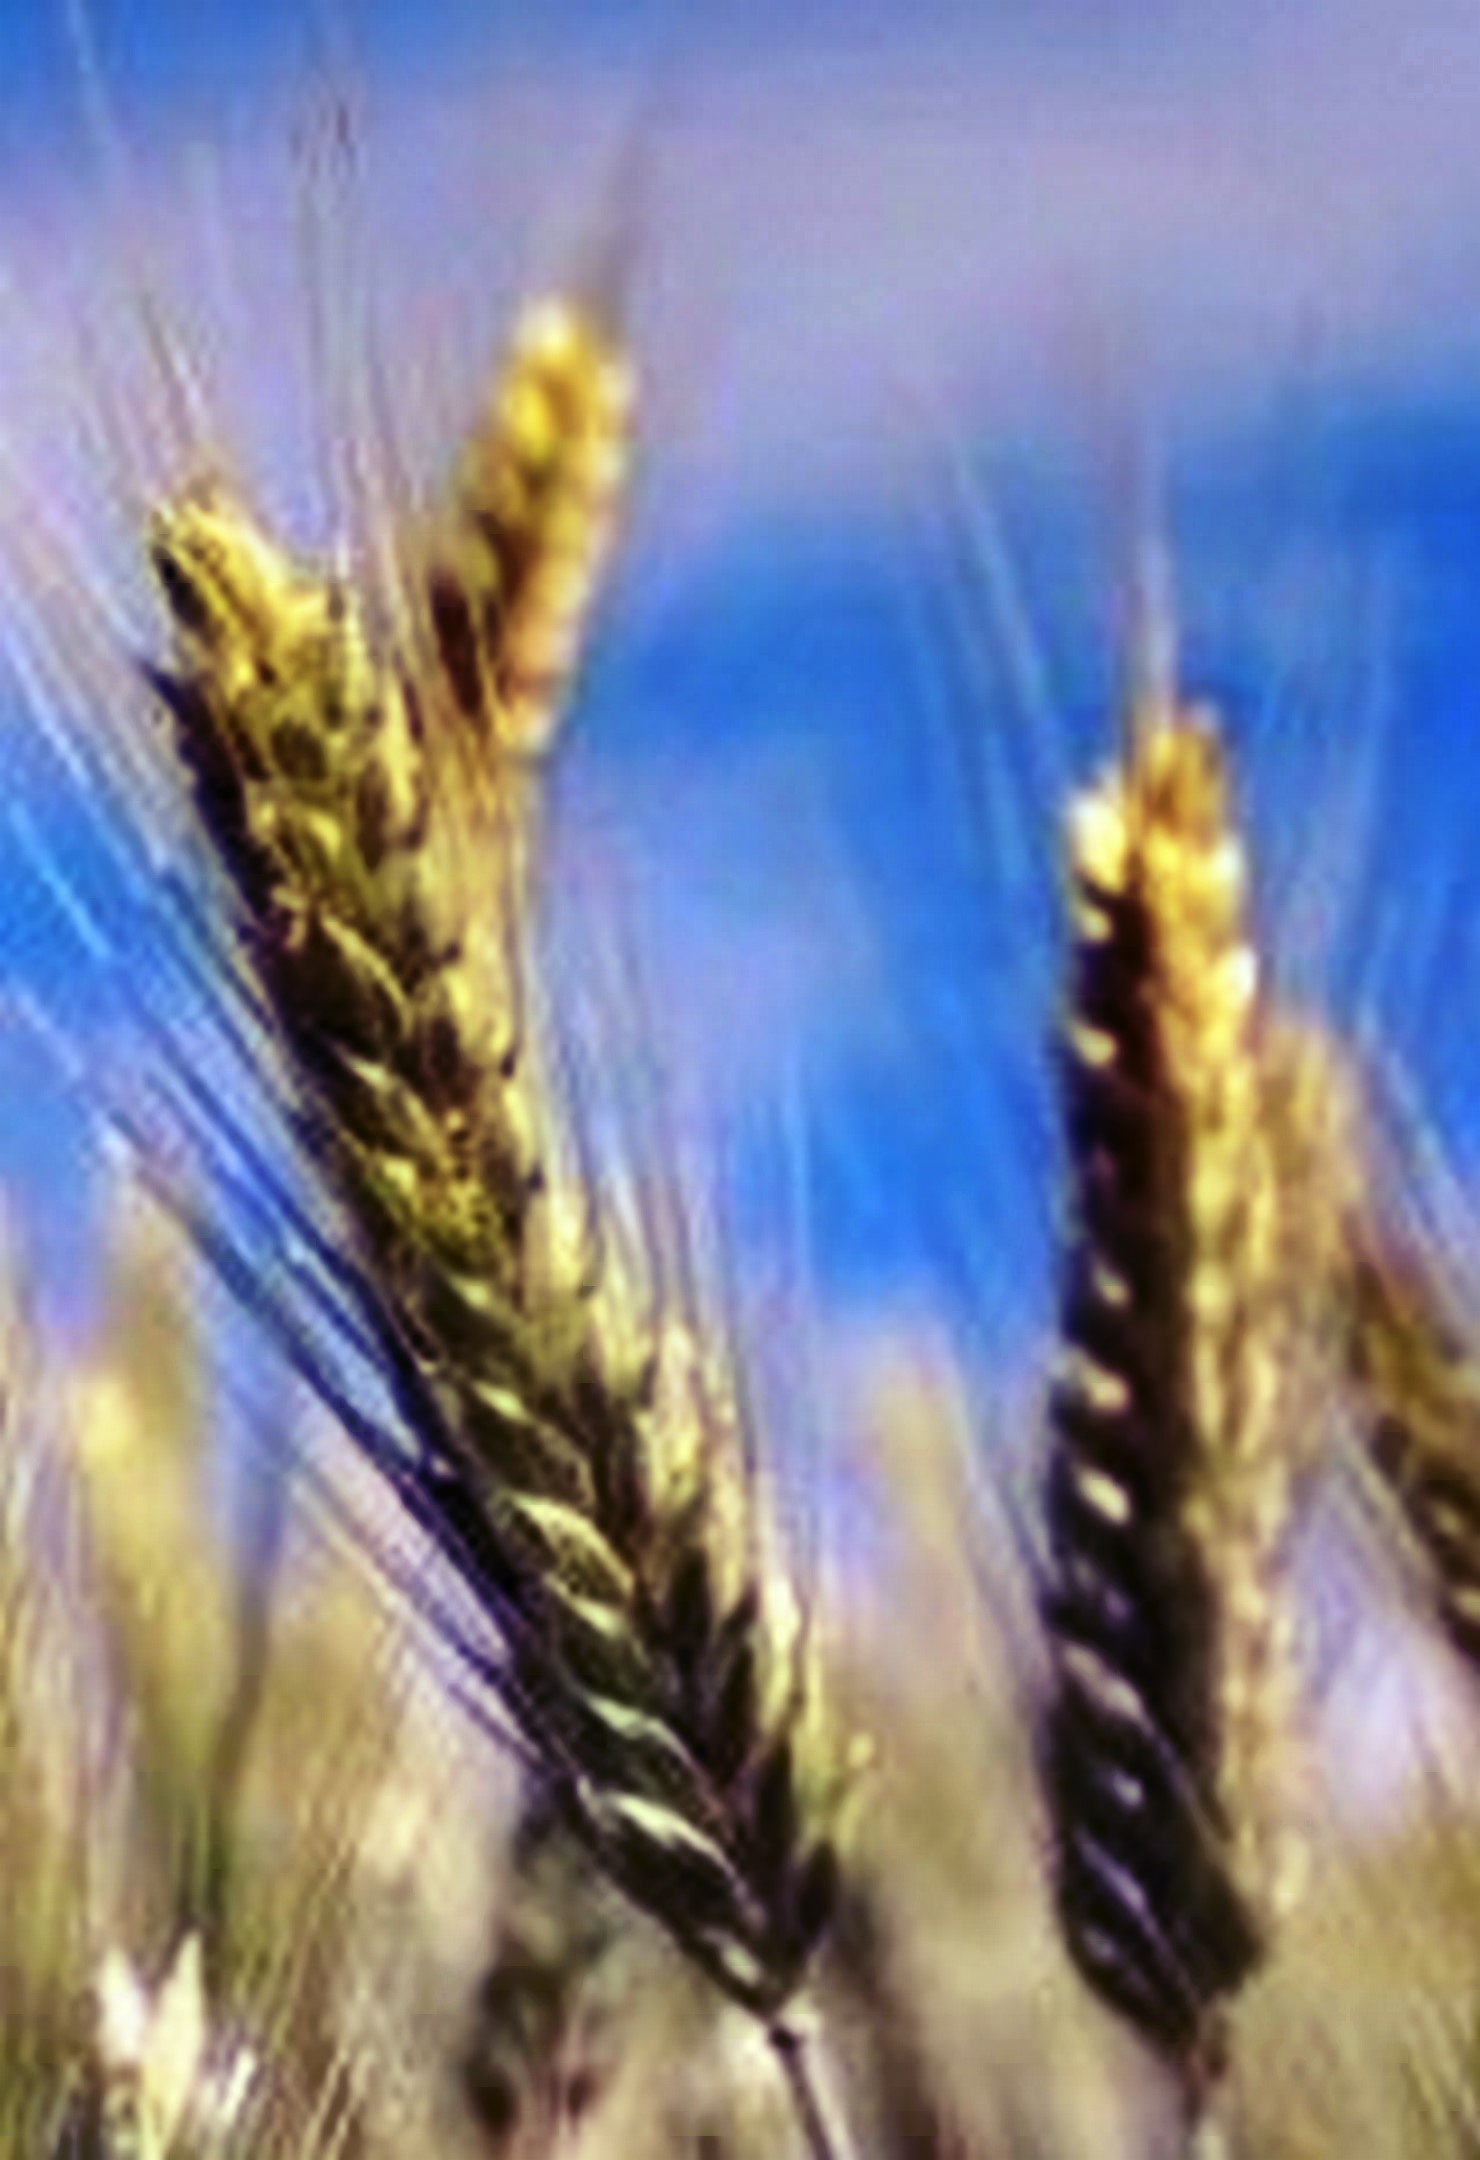Healthy Wheat: (136, 519, 861, 1991)
